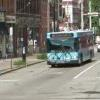Bus: (43, 26, 95, 68)
